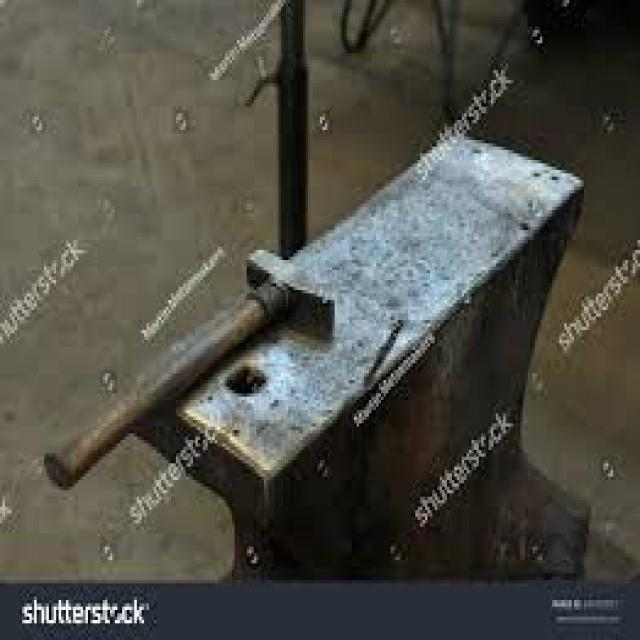hammer: (39, 244, 340, 498)
